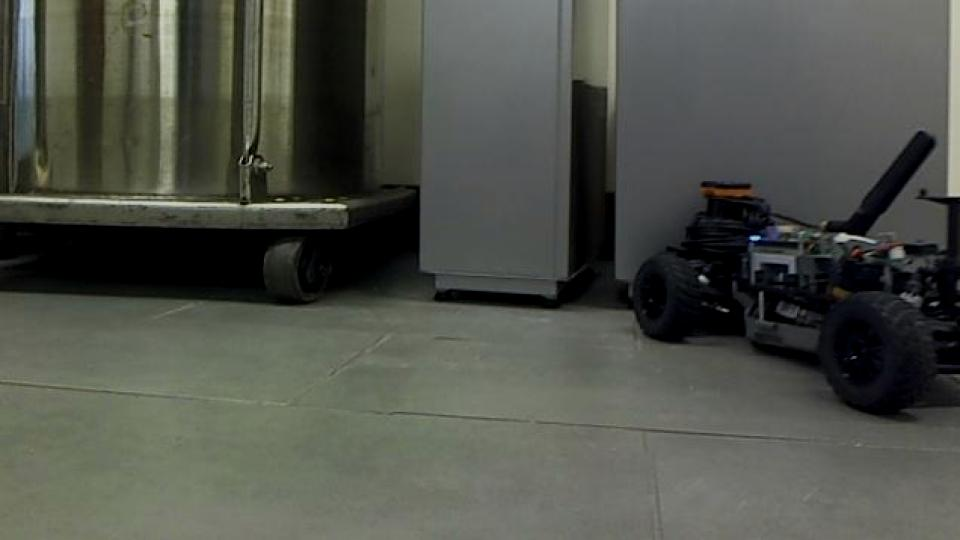car: (1, 0, 420, 306), (626, 127, 960, 416)
